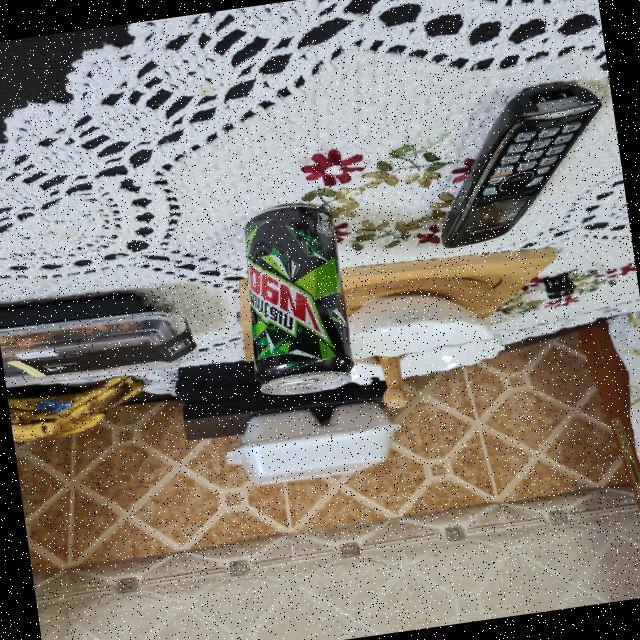can: (232, 195, 363, 402)
